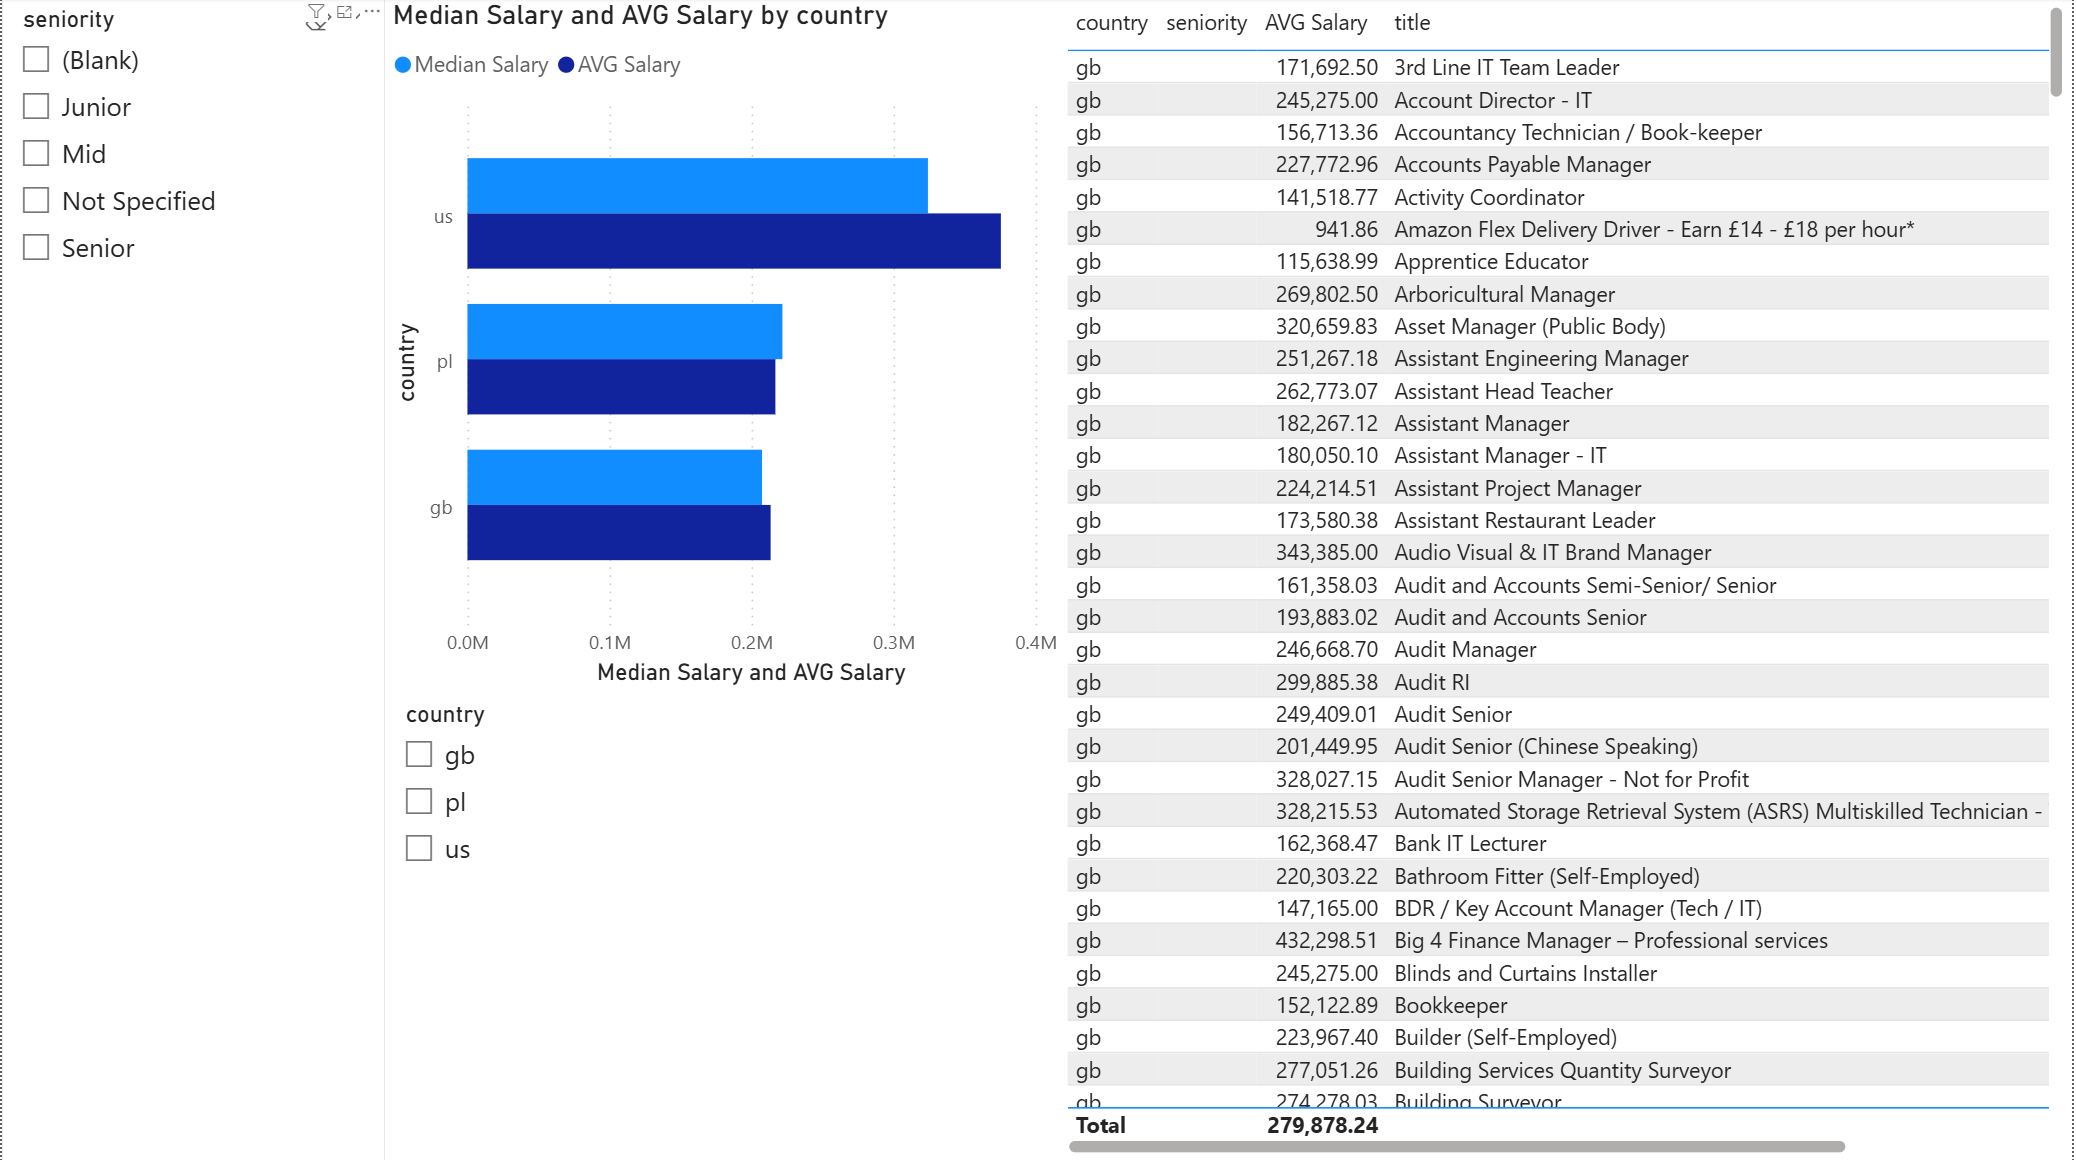

What the dashboard file says about the page in this screenshot:
{"tool":"powerbi","page":{"name":"Page 1","canvas":[1280,720],"ordinal":0},"visuals":[{"type":"clusteredBarChart","fields":{"Category":["dim_locations.country"],"Y":["fact_offers.Median Salary","fact_offers.AVG Salary"]},"box":[236.9,0,421.4,429.9],"z":0},{"type":"slicer","fields":{"Values":["dim_locations.country"]},"box":[236.9,429.9,421.4,289.9],"z":1000},{"type":"slicer","fields":{"Values":["fact_offers.seniority"]},"box":[0,0,236.9,719.8],"z":2000},{"type":"tableEx","fields":{"Values":["dim_locations.country","fact_offers.seniority","fact_offers.AVG Salary","fact_offers.title","fact_offers.Median Salary"]},"box":[653.1,0,626.9,720.5],"z":3000}]}

Visuals, with their boxes in screenshot pixels (x1, y1, x2, y2), scaled from the page's 1280x720 canvas onto the 2077x1160 screenshot:
clusteredBarChart - dim_locations.country x fact_offers.Median Salary: 384/0/1068/693
slicer - dim_locations.country: 384/693/1068/1159
slicer - fact_offers.seniority: 0/0/384/1159
tableEx - dim_locations.country x fact_offers.seniority: 1060/0/2076/1159
